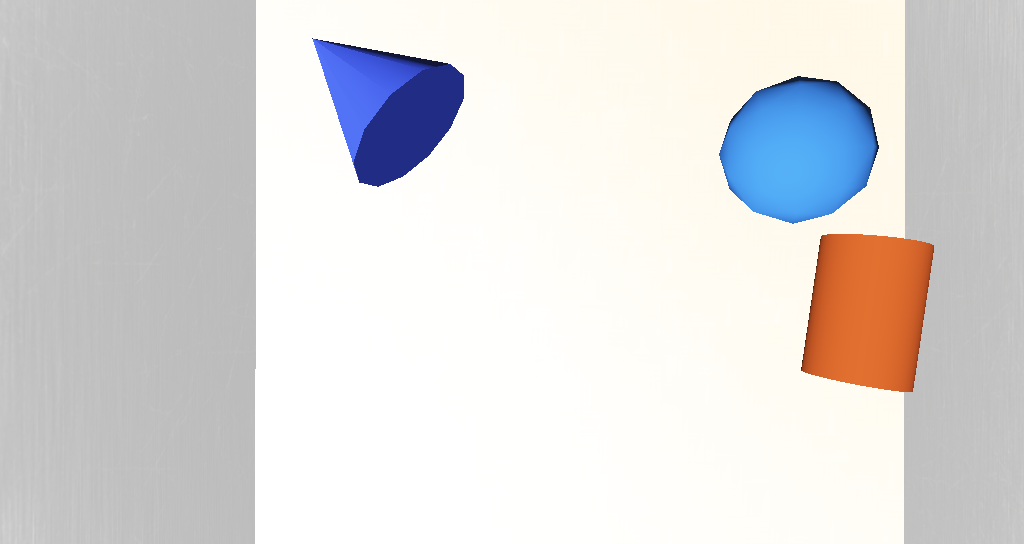cone: (603, 255, 664, 308)
cylinder: (354, 174, 455, 246)
sphere: (569, 205, 630, 253)
